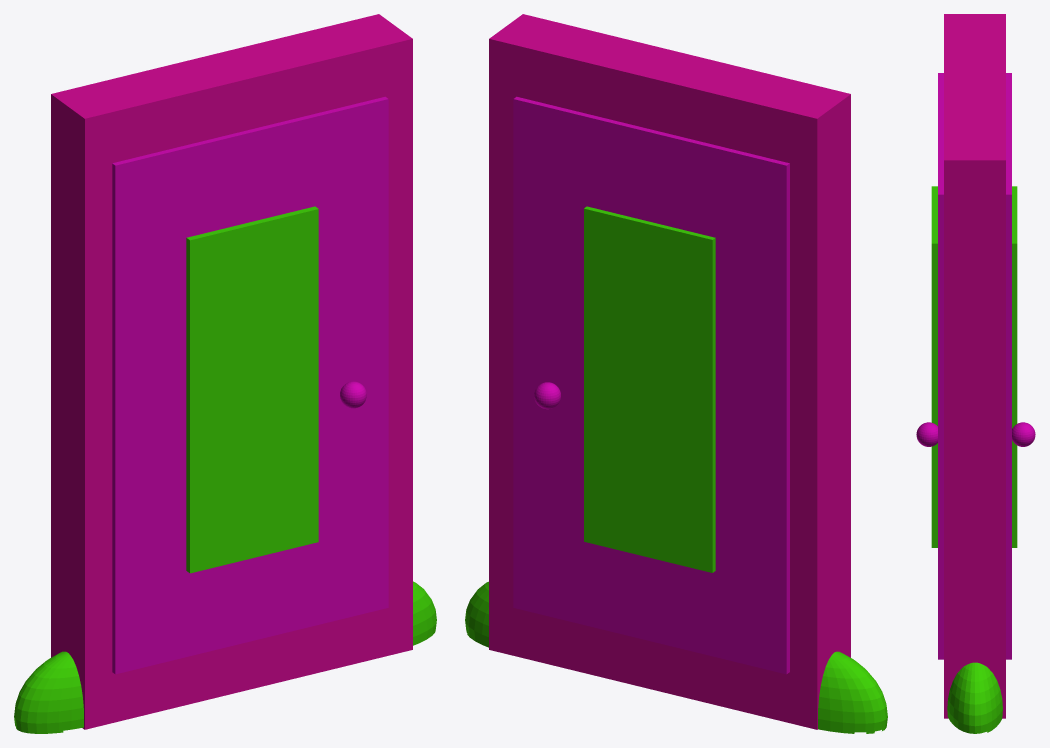
Rendered from pintuDoraemon.obj.
The picture shows the model from 3 angles, left to right: view 1: azimuth 30°, elevation 25°; view 2: azimuth 150°, elevation 25°; view 3: azimuth 270°, elevation 25°; orthographic projection. The views are drawn at different scales.
Parts seen in each view (by area): view 1: Door, Door_Frame, Cube, Door_Leg.001, Door_Leg; view 2: Door, Door_Frame, Cube, Door_Leg.001, Door_Leg; view 3: Door_Frame, Door, Cube, Door_Leg, Front_Door_Knob, Back_Door_Knob.
Boxes of the visible parts, x1=… form: Door: x1=112, y1=96, x2=388, y2=674; Door_Frame: x1=51, y1=14, x2=412, y2=729; Cube: x1=186, y1=206, x2=318, y2=573; Door_Leg.001: x1=14, y1=651, x2=83, y2=733; Door_Leg: x1=413, y1=581, x2=436, y2=645; Door: x1=513, y1=96, x2=789, y2=674; Door_Frame: x1=489, y1=14, x2=850, y2=729; Cube: x1=584, y1=206, x2=715, y2=572; Door_Leg.001: x1=818, y1=651, x2=887, y2=733; Door_Leg: x1=465, y1=581, x2=488, y2=647; Door_Frame: x1=944, y1=14, x2=1005, y2=718; Door: x1=938, y1=73, x2=1011, y2=659; Cube: x1=931, y1=186, x2=1017, y2=547; Door_Leg: x1=947, y1=662, x2=1002, y2=733; Front_Door_Knob: x1=1012, y1=422, x2=1035, y2=446; Back_Door_Knob: x1=916, y1=422, x2=937, y2=446.
Bounding box in the file's own units: 7.05 × 9.83 × 1.9.
